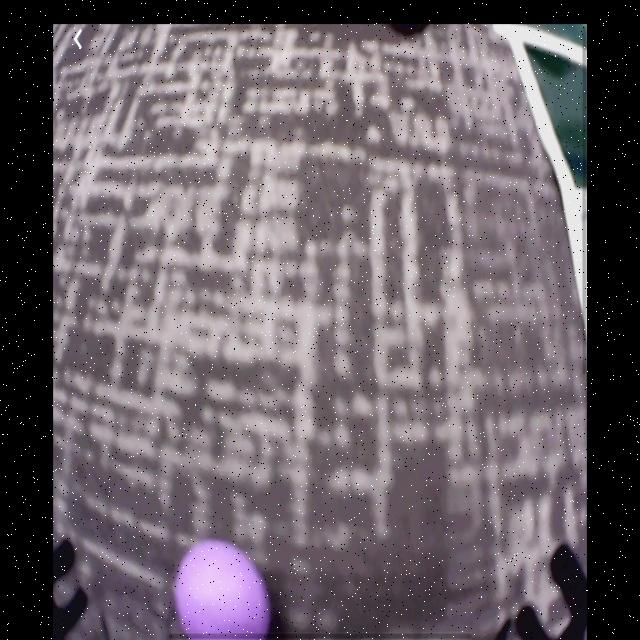ball: (175, 540, 269, 640)
